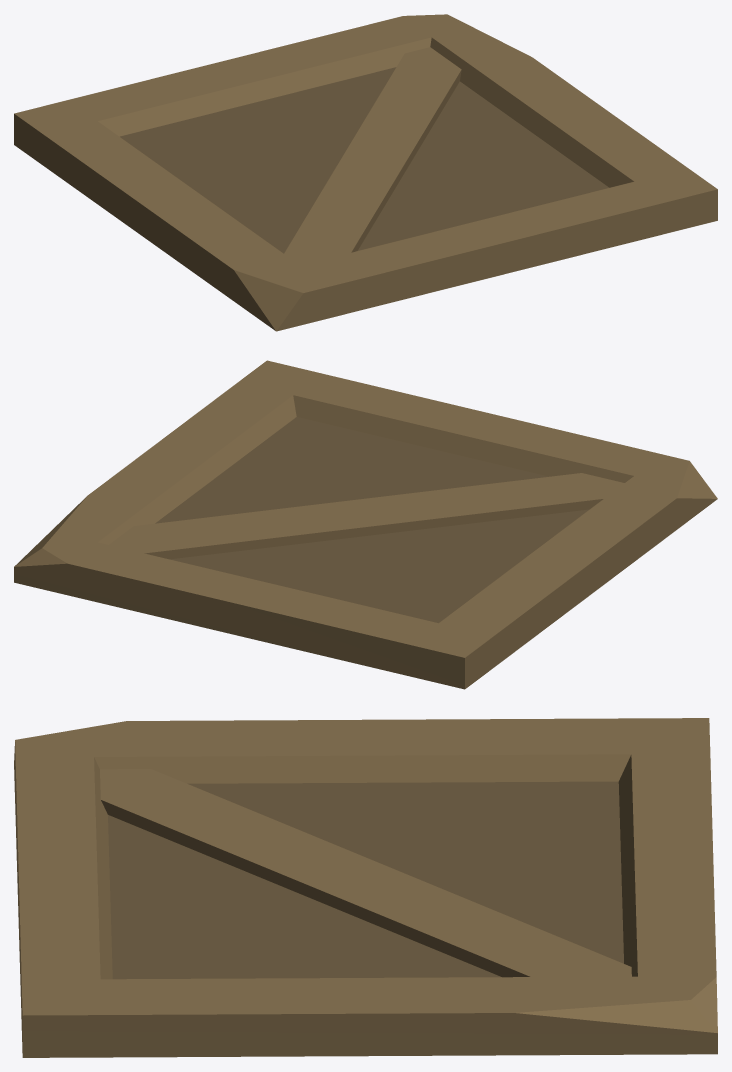
The model's file is SM_Prop_Crate_Open_Lid_01.obj.
3 renders of one model, top to bottom at view 1: azimuth 30°, elevation 25°; view 2: azimuth 150°, elevation 25°; view 3: azimuth 270°, elevation 25°, orthographic. The views are drawn at different scales.
Parts seen in each view (by area): view 1: SM_Prop_Crate_Open_Lid_01_0; view 2: SM_Prop_Crate_Open_Lid_01_0; view 3: SM_Prop_Crate_Open_Lid_01_0.
Part boxes in pixels (x1,y1,x2,y2): SM_Prop_Crate_Open_Lid_01_0: [14, 14, 717, 331]; SM_Prop_Crate_Open_Lid_01_0: [14, 360, 717, 689]; SM_Prop_Crate_Open_Lid_01_0: [14, 718, 717, 1057].
Bounding box in the file's own units: 0.8283 × 0.0551 × 0.8284.
1 material, 1 textured.
